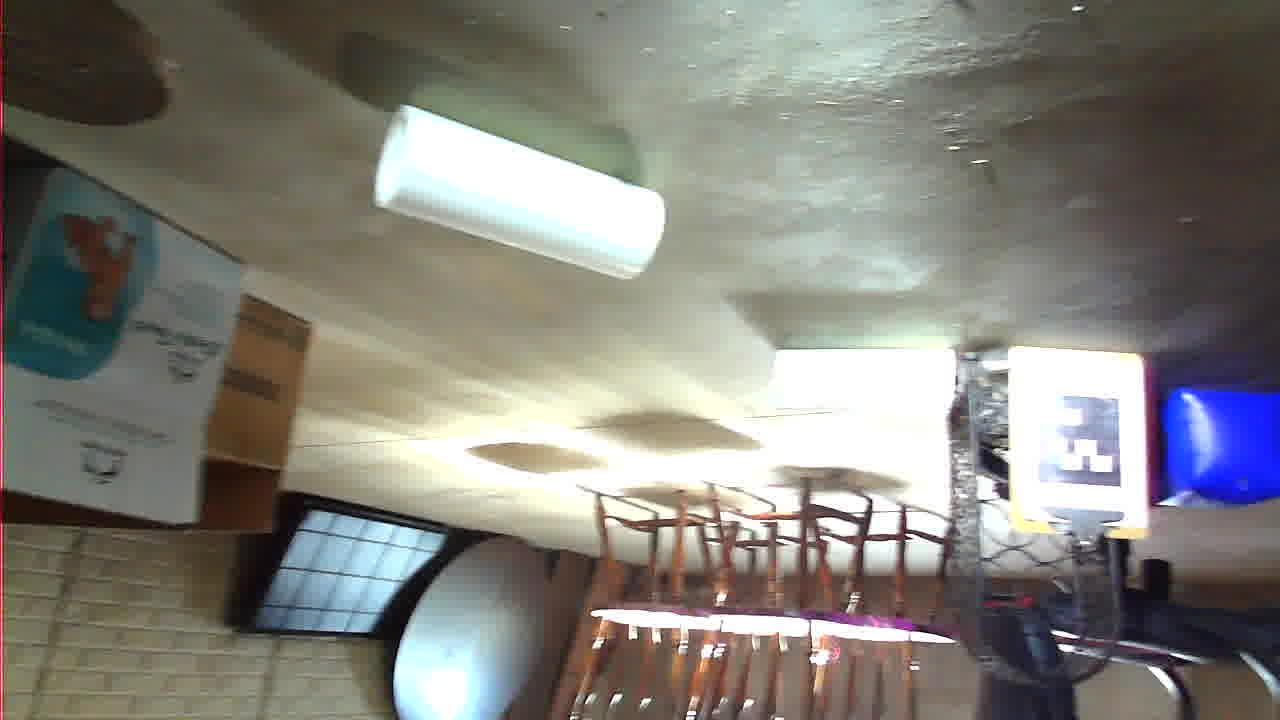coral: (614, 441, 907, 617), (323, 307, 510, 373)
